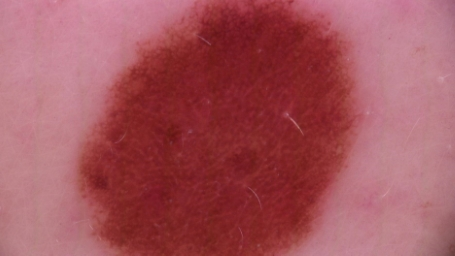nevus: (76, 1, 360, 256)
